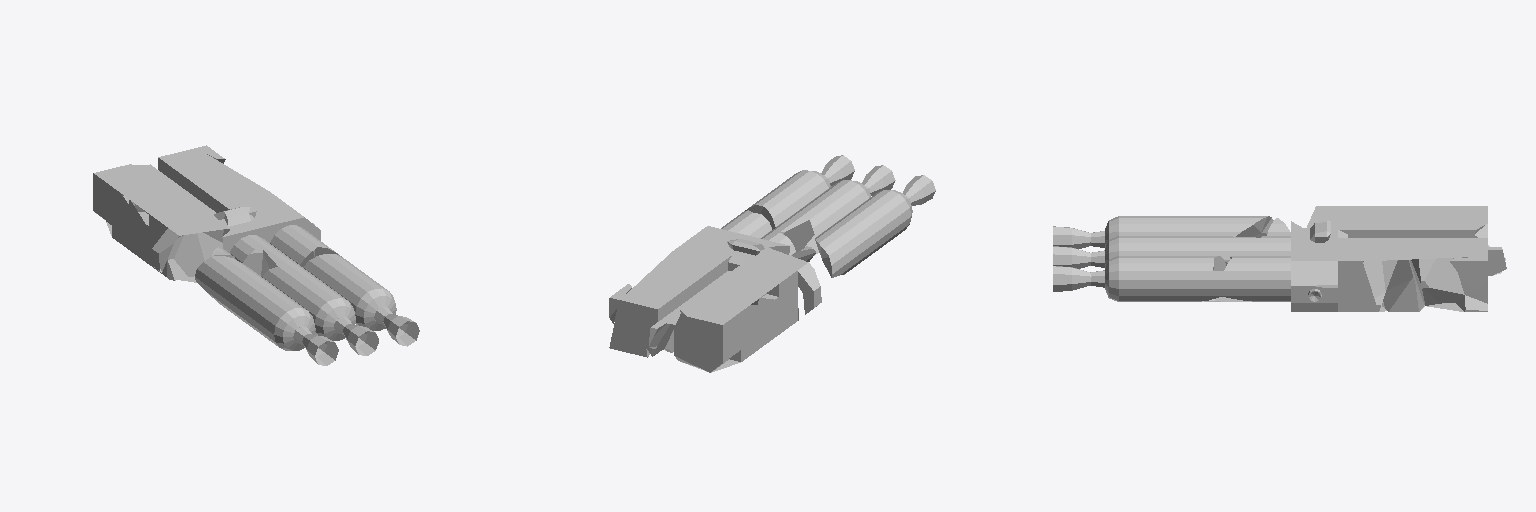
File: Hard Scifi Freightor wreckpart1.obj
3 views of the same model, side by side, from view 1: azimuth 30°, elevation 25°; view 2: azimuth 150°, elevation 25°; view 3: azimuth 270°, elevation 25° (orthographic).
Parts seen in each view (by area): view 1: Cube.007; view 2: Cube.007; view 3: Cube.007.
Boxes of the visible parts, <box> form: Cube.007: <box>93,145,419,365</box>; Cube.007: <box>609,155,935,372</box>; Cube.007: <box>1053,206,1506,311</box>.
Bounding box in the file's own units: 37 × 14 × 97.08.